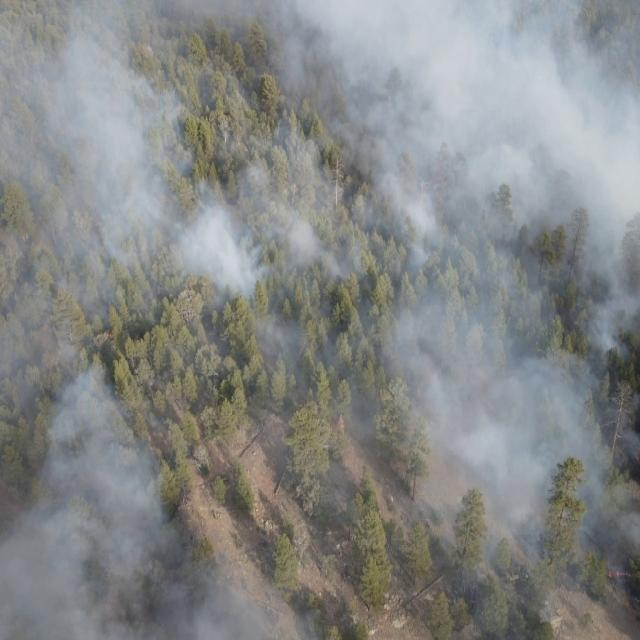fire: (607, 566, 629, 583), (104, 331, 116, 341)
smoke: (0, 0, 640, 292), (220, 290, 640, 432), (0, 291, 160, 639), (408, 431, 640, 640), (158, 518, 274, 640)
